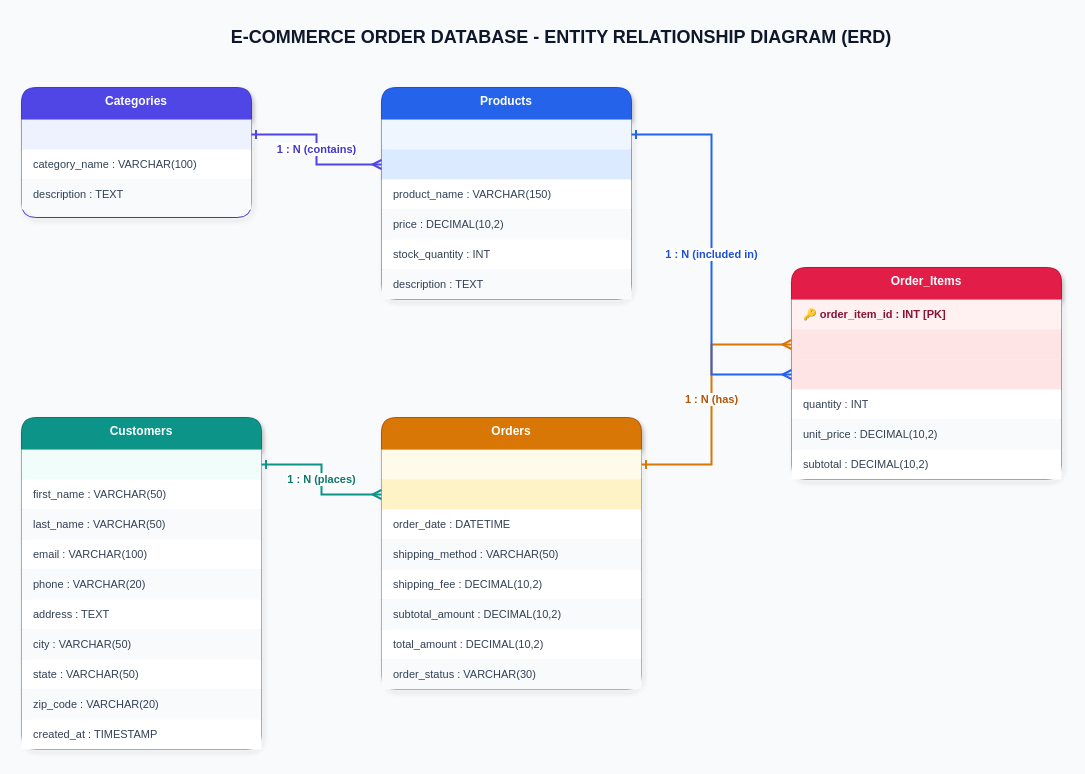
Some shapes in this 1085 by 774 pixel diagram are drawn without their labels. The centre of each missing label's shape, as x and y in pixels:
"🔑 category_id : INT [PK]" goes at (136,134).
"🔑 customer_id : INT [PK]" goes at (141,464).
"🔑 order_id : VARCHAR(30) [PK]" goes at (511,464).
"🔑 product_id : INT [PK]" goes at (506,134).
"🔗 category_id : INT [FK]" goes at (506,164).
"🔗 customer_id : INT [FK]" goes at (511,494).
"🔗 order_id : VARCHAR(30) [FK]" goes at (926,344).
"🔗 product_id : INT [FK]" goes at (926,374).
